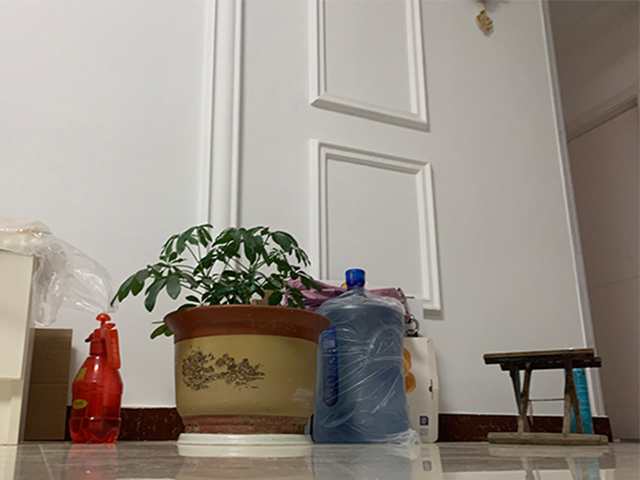stool: (484, 347, 610, 446)
